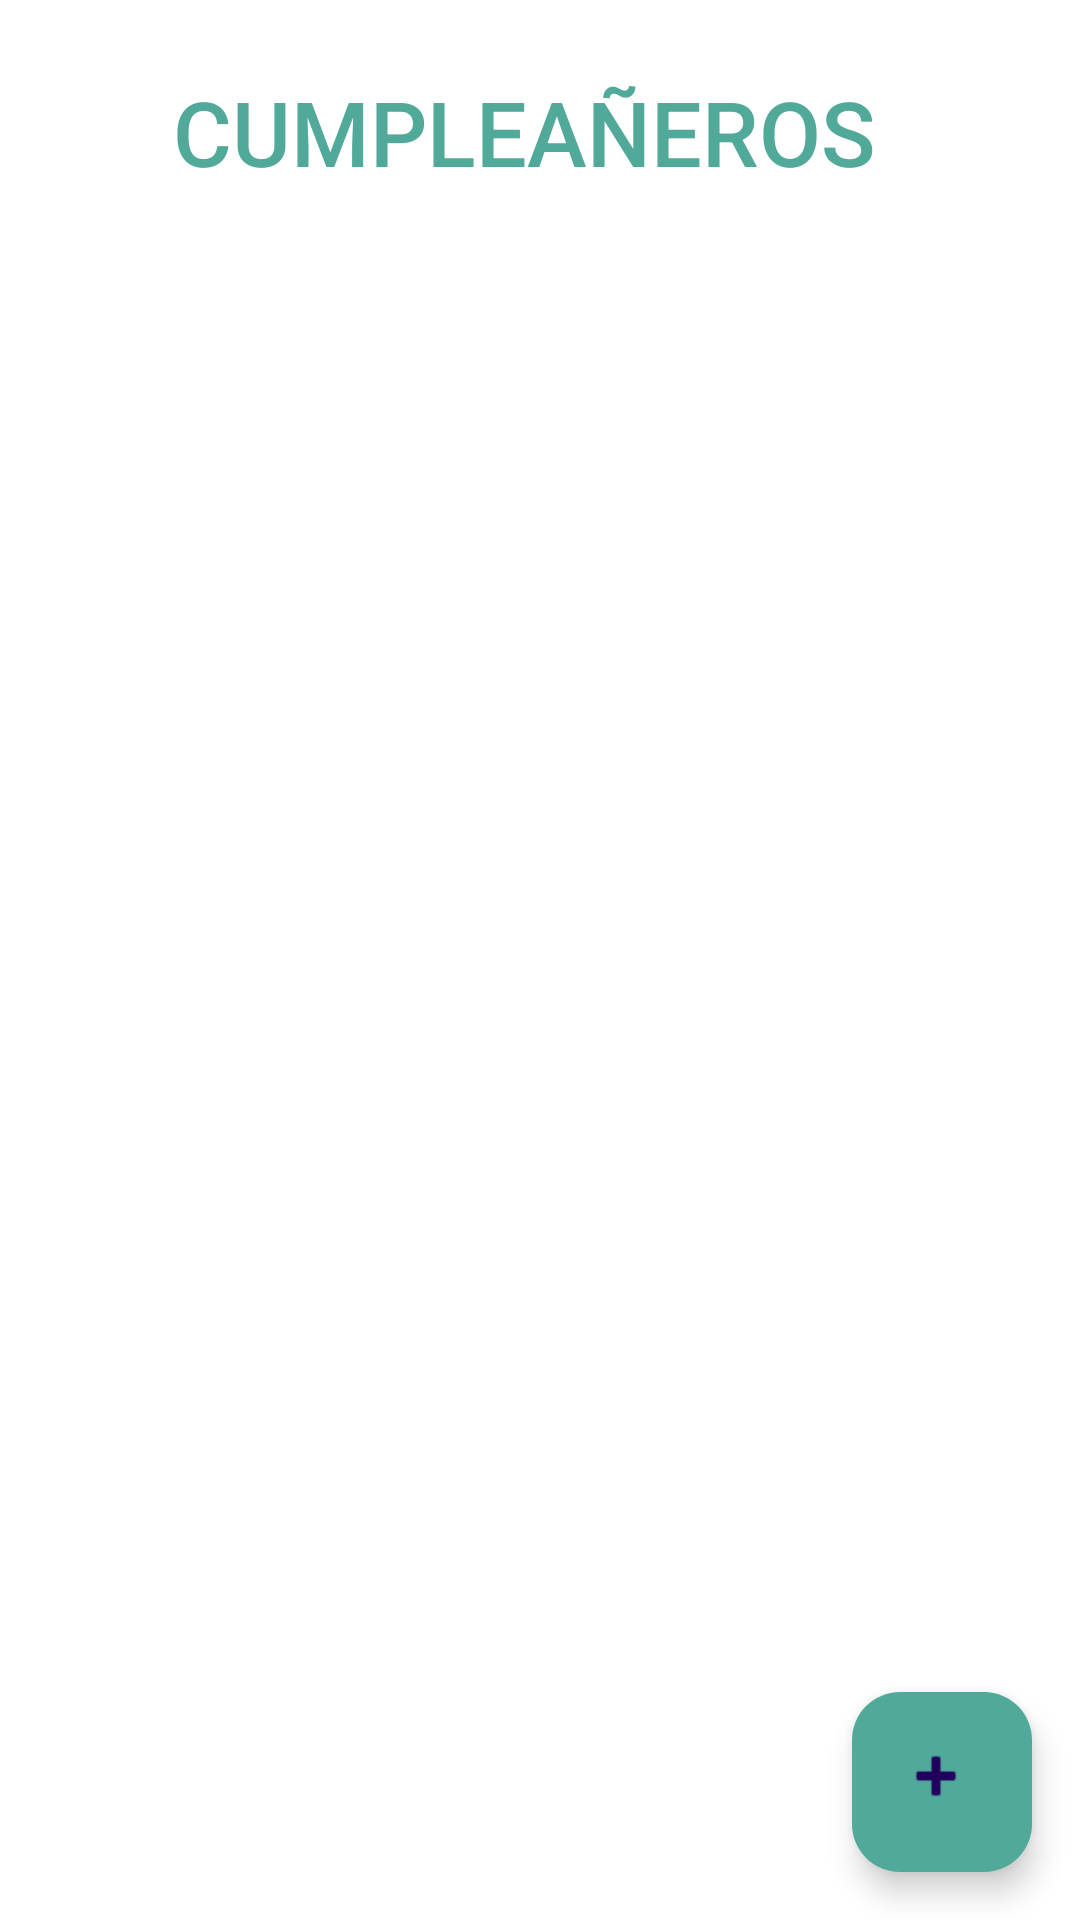

Screen size 1080px x 1920px. Icon name, then its box in pixels as Rect(x1, y1, x2, y2):
Add: Rect(852, 1692, 1032, 1872)
